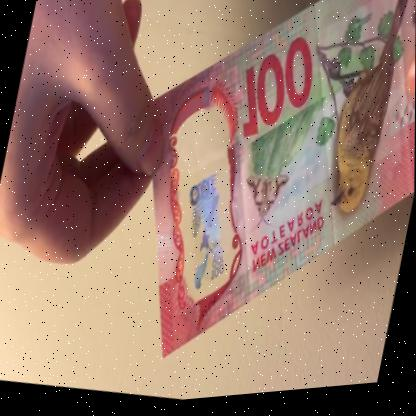100B: (169, 158, 247, 304)
